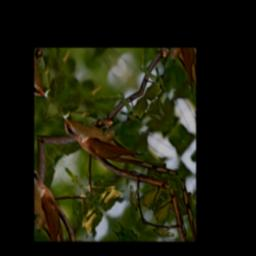Cuckoo: (55, 74, 180, 222)
